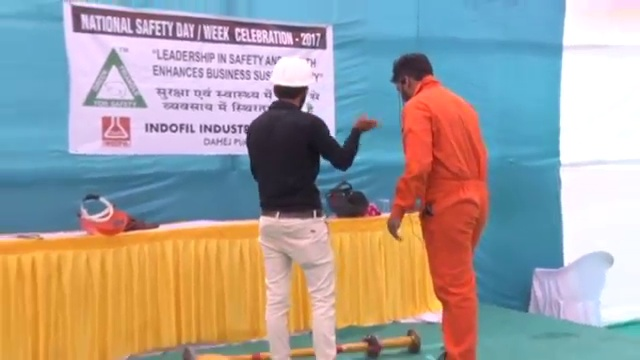helmet: (267, 56, 315, 91)
helmet_off: (389, 51, 435, 100)
helmet_on: (266, 56, 316, 110)
person: (251, 54, 376, 360), (386, 51, 493, 358)
